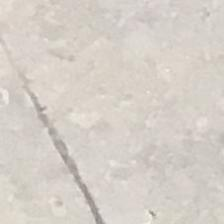Non_Crack: (23, 32, 220, 184)
